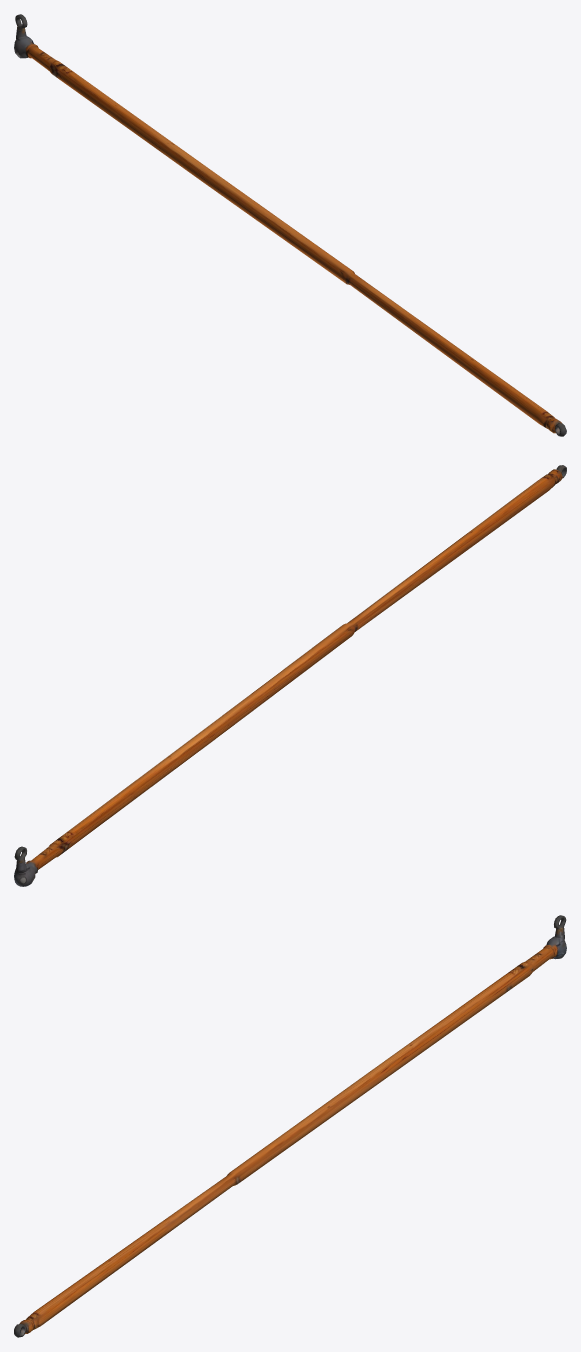
The model's file is boom.glb.
The picture shows the model from 3 angles, top to bottom: view 1: azimuth 30°, elevation 25°; view 2: azimuth 150°, elevation 25°; view 3: azimuth 330°, elevation 25°; orthographic projection.
Visible parts, largest first — view 1: boom; view 2: boom; view 3: boom.
Part boxes in pixels (x1,y1,x2,y2): boom: (14,14,566,436); boom: (14,465,566,886); boom: (14,915,566,1337).
Size of the model in its own units: 0.0811 by 0.18 by 4.5.
1 material, 1 textured.
